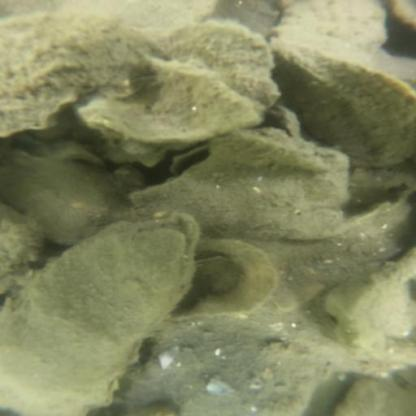3: (0, 213, 205, 413), (75, 58, 300, 168)
Oyster-Closed: (156, 20, 283, 116), (210, 132, 328, 172)
Oyster-Open: (131, 128, 350, 238), (1, 11, 164, 134), (272, 38, 416, 167), (3, 158, 120, 249), (57, 0, 224, 32), (2, 205, 42, 289), (335, 375, 413, 411)
